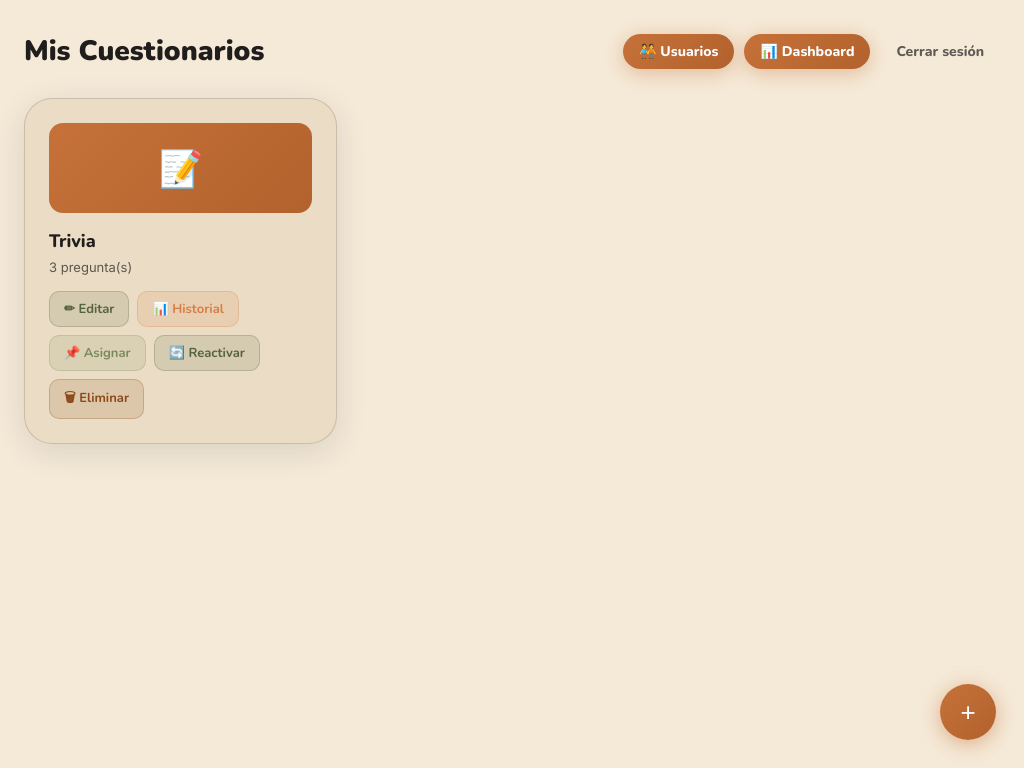
QuizListView — Asignar popup › fetches active usuarios for an assignable quiz and posts the selected ids
Click the button with class "btn-assign": coordinates (97, 353) [49, 335, 146, 371]
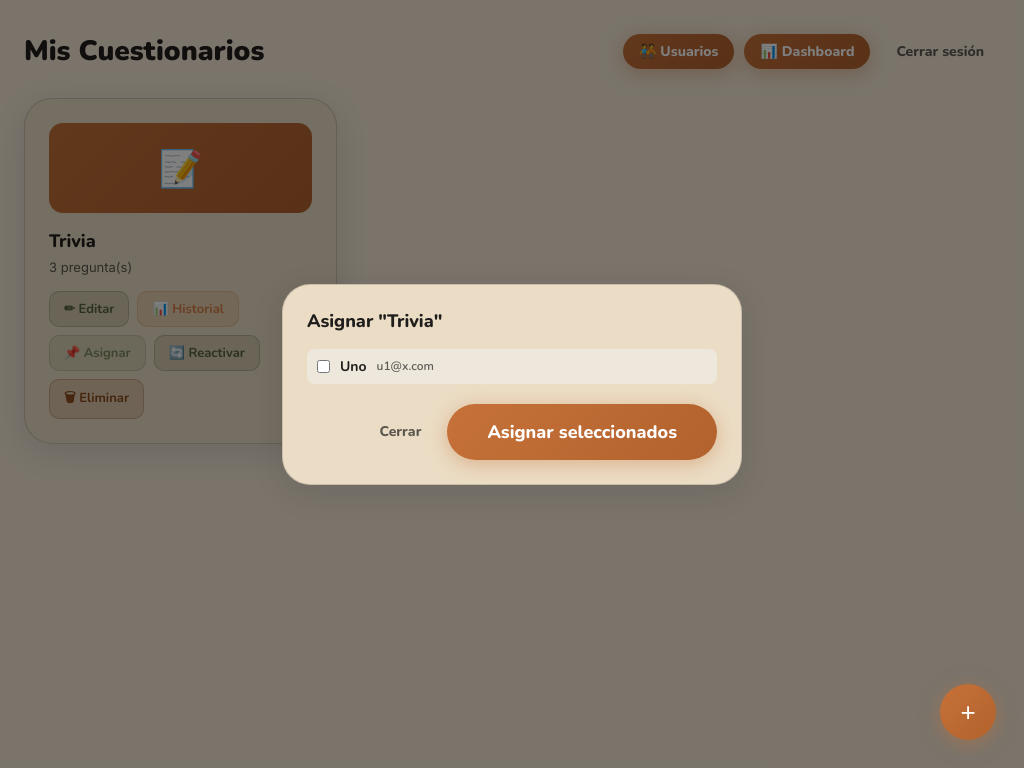
Check: the checkbox labelled "Uno u1@x.com" is shown
Click the checkbox labelled "Uno u1@x.com": coordinates (324, 366) [317, 360, 330, 372]
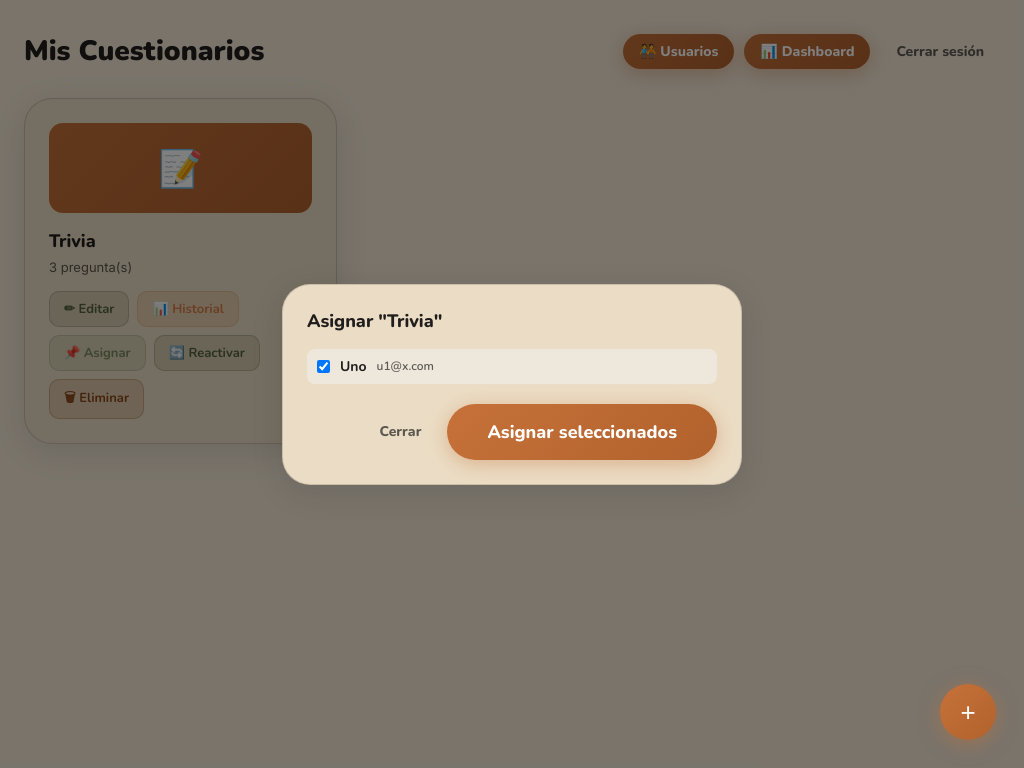
Click the button "Asignar seleccionados": coordinates (582, 432) [447, 404, 717, 460]
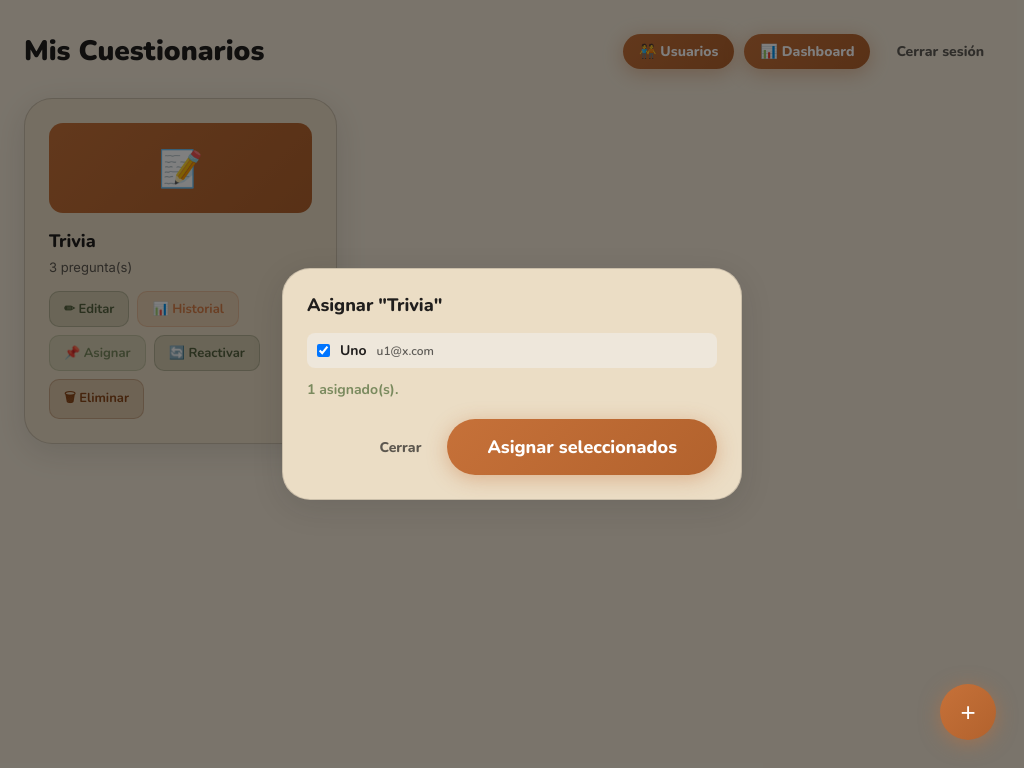
Check: the text "1 asignado(s)" is shown, box [307, 380, 398, 399]
